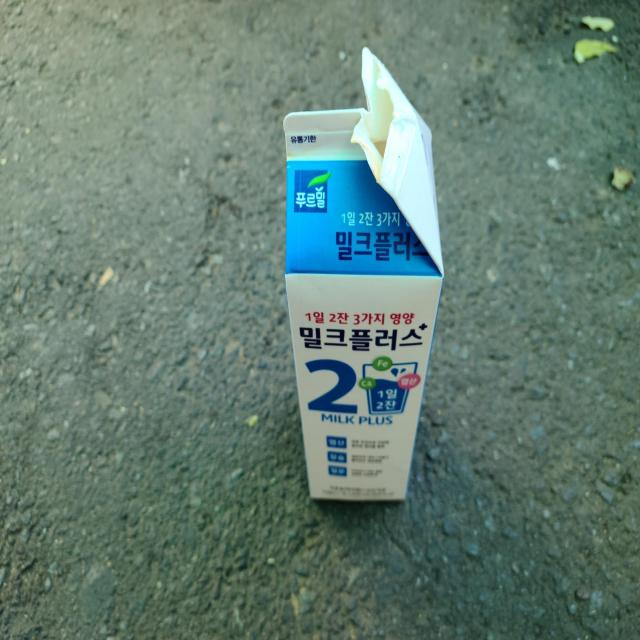paperpack: (284, 47, 444, 501)
